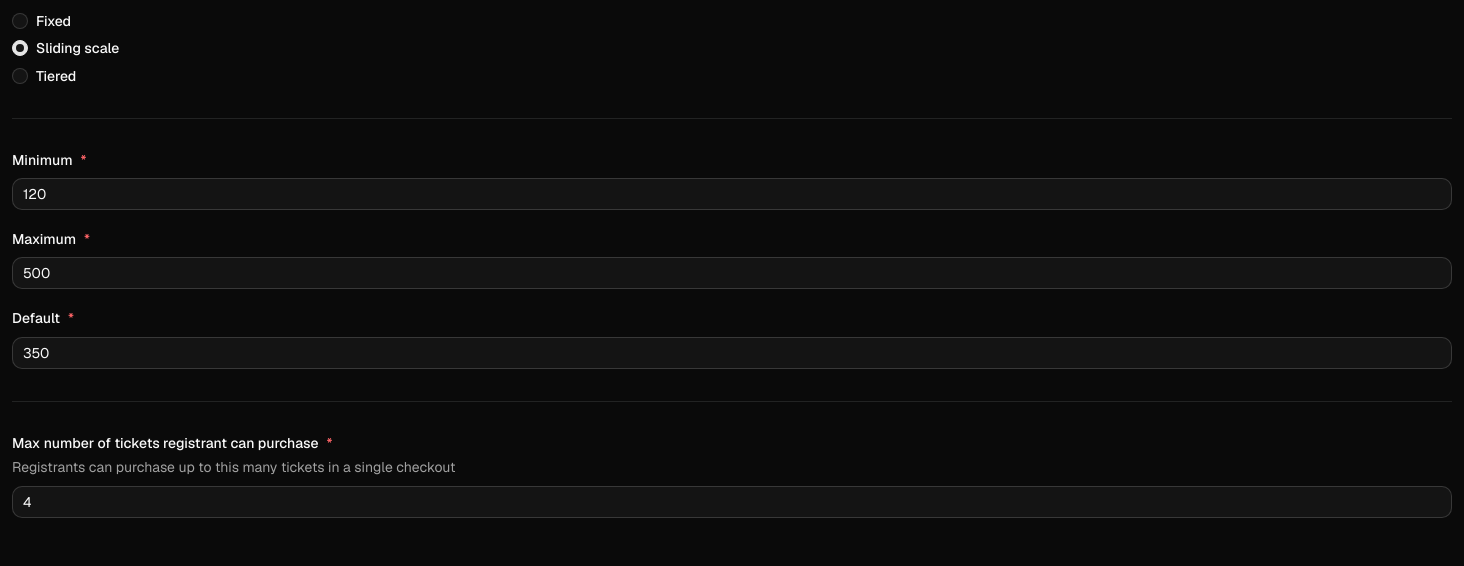
Test: AdmissionsForm › sliding scale › rejects a default outside the min/max range
Replace the text in the number field with id "admissions-sliding-default" with "600": point(732, 352) [12,336,1452,368]
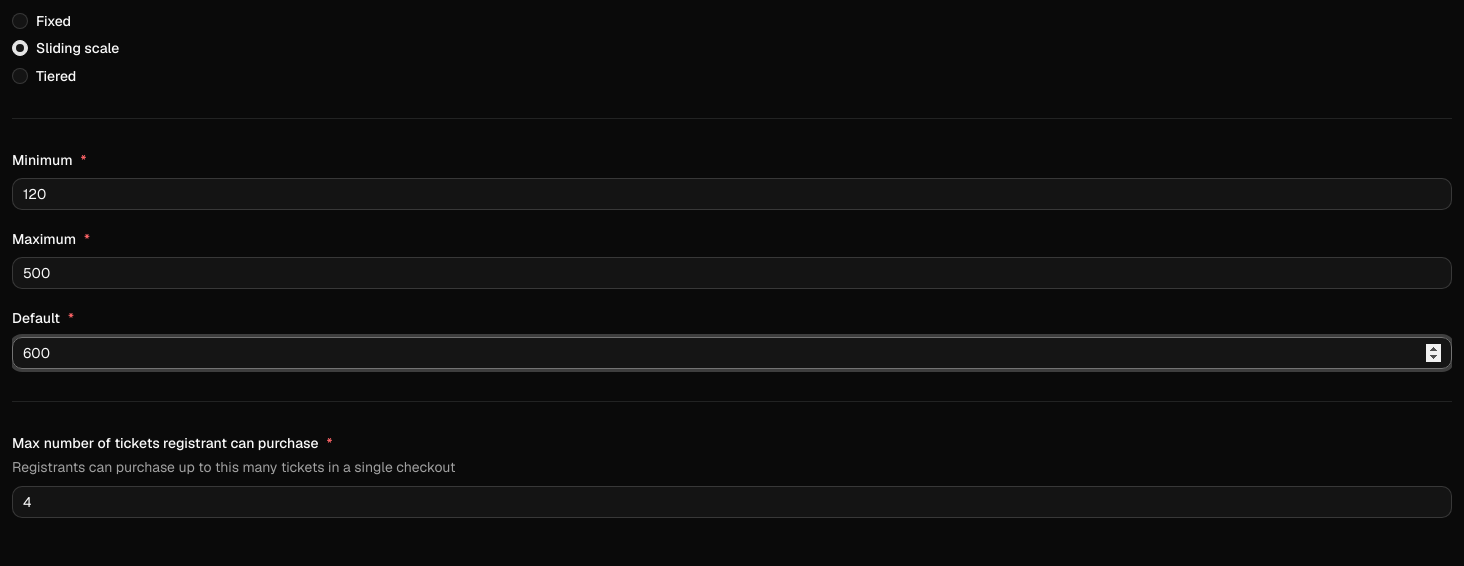
Press Tab
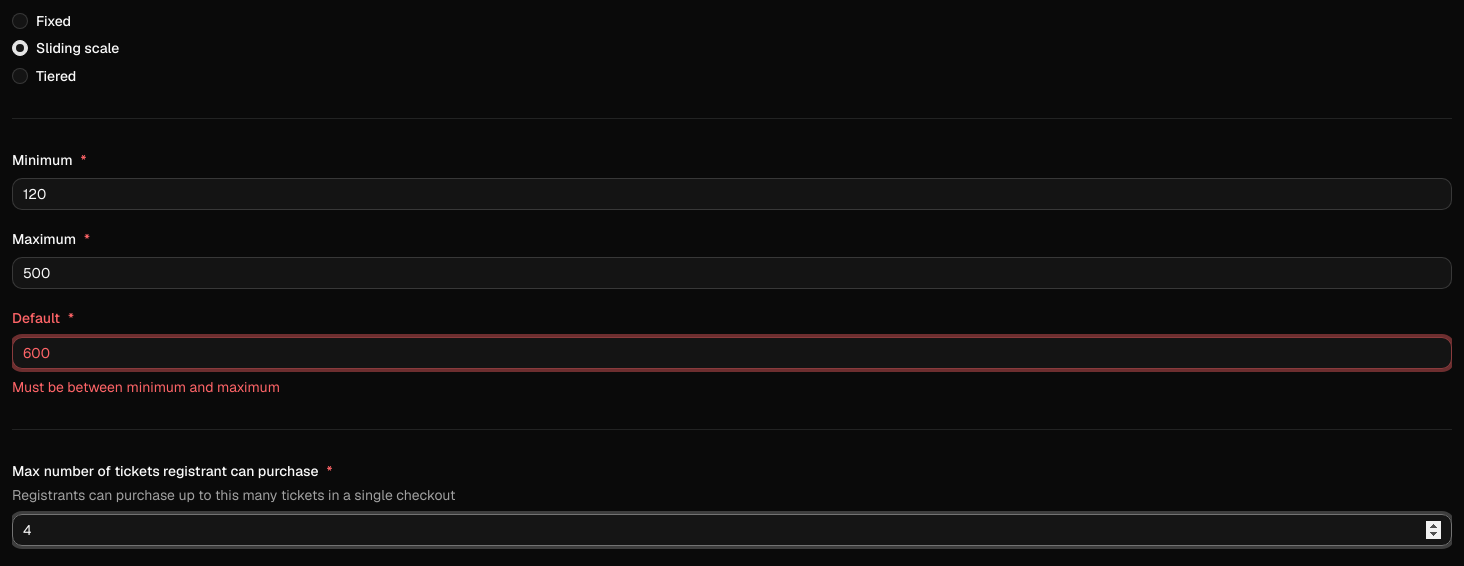
Expected: the message reads "Must be between minimum and maximum", [12,378,280,396]
